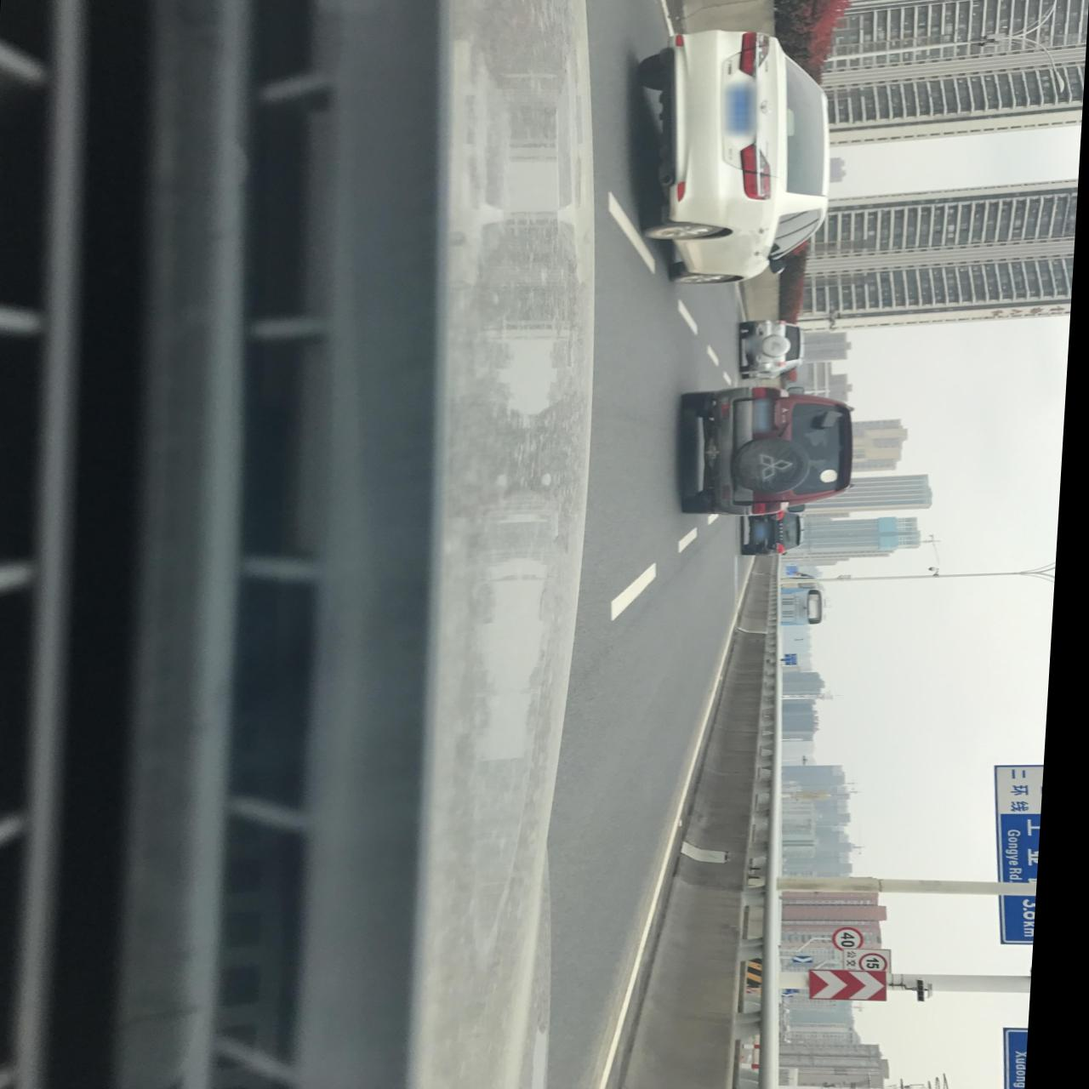car: (625, 26, 847, 288)
motorcycle: (677, 382, 867, 521)
